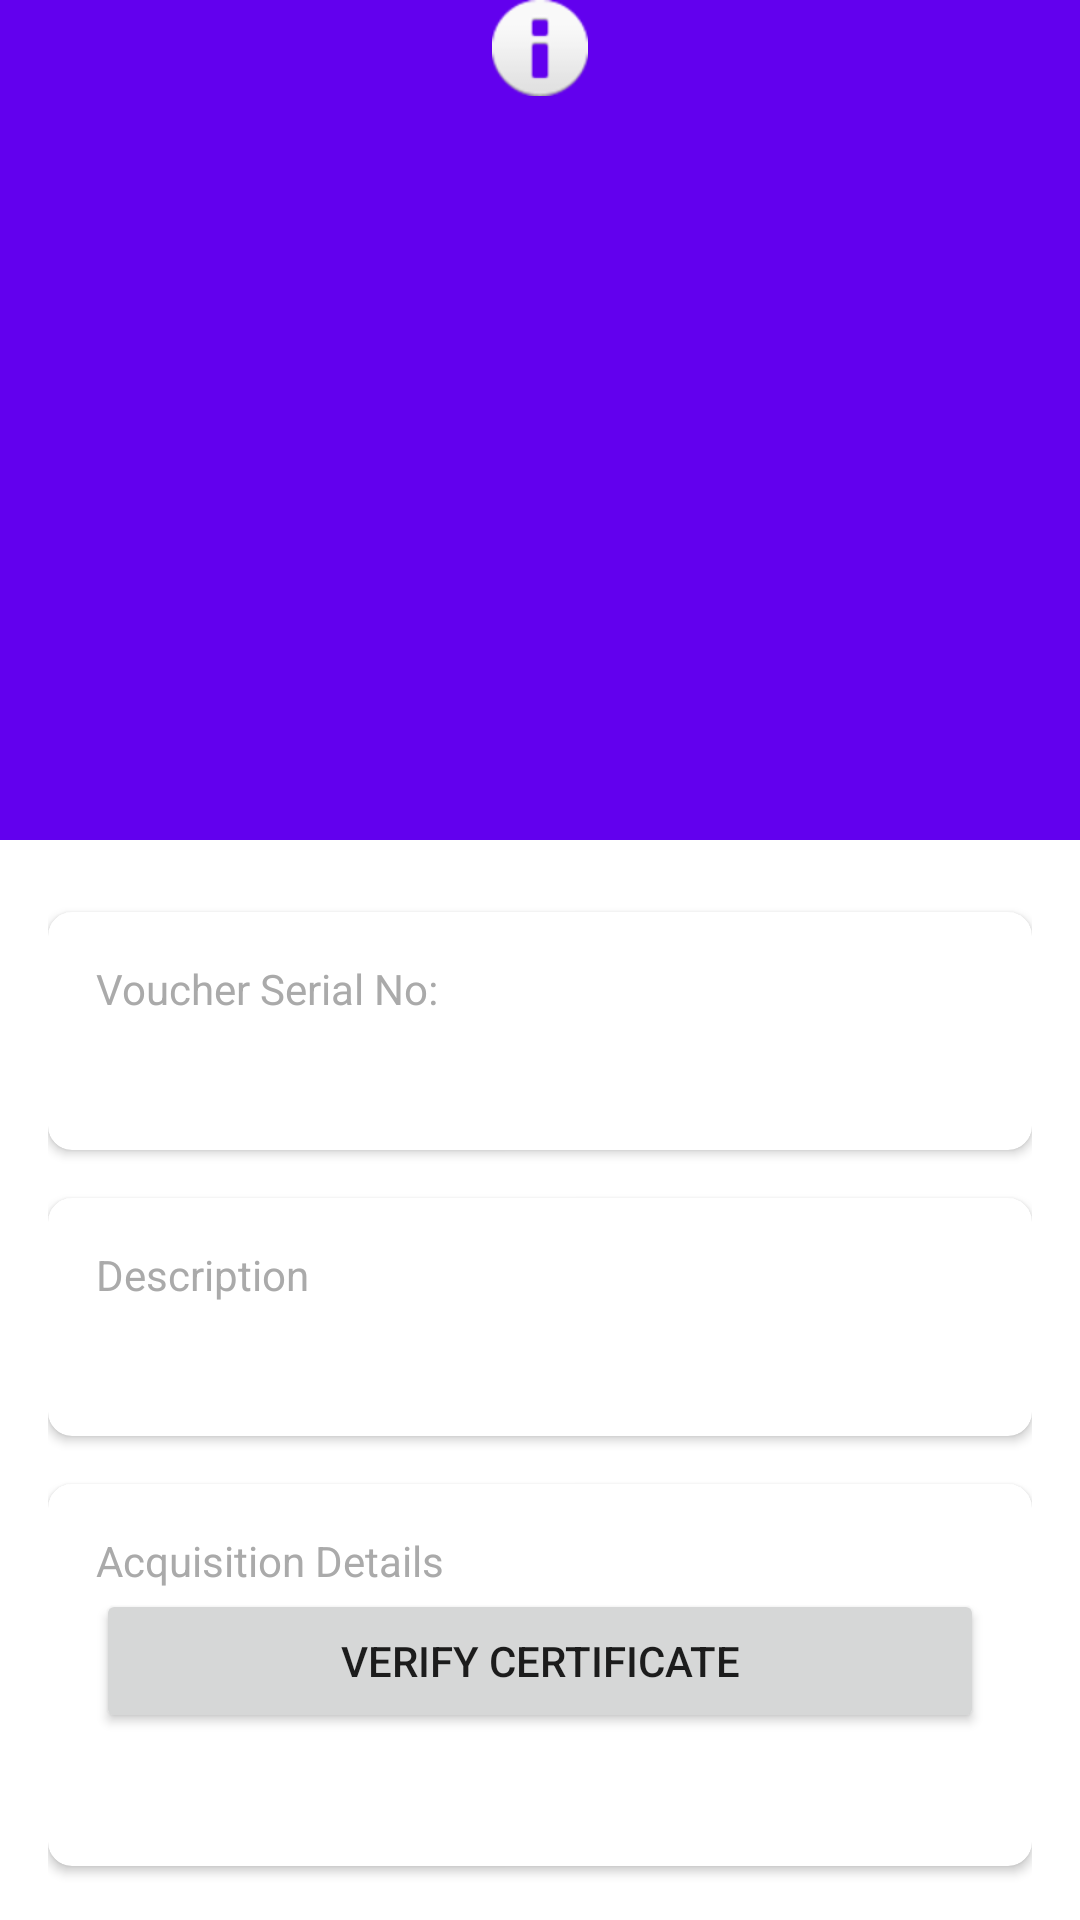

Point at icon controls on the screen. Image size 1080*1920, points as [x,y].
Badge Image: [540,48]
